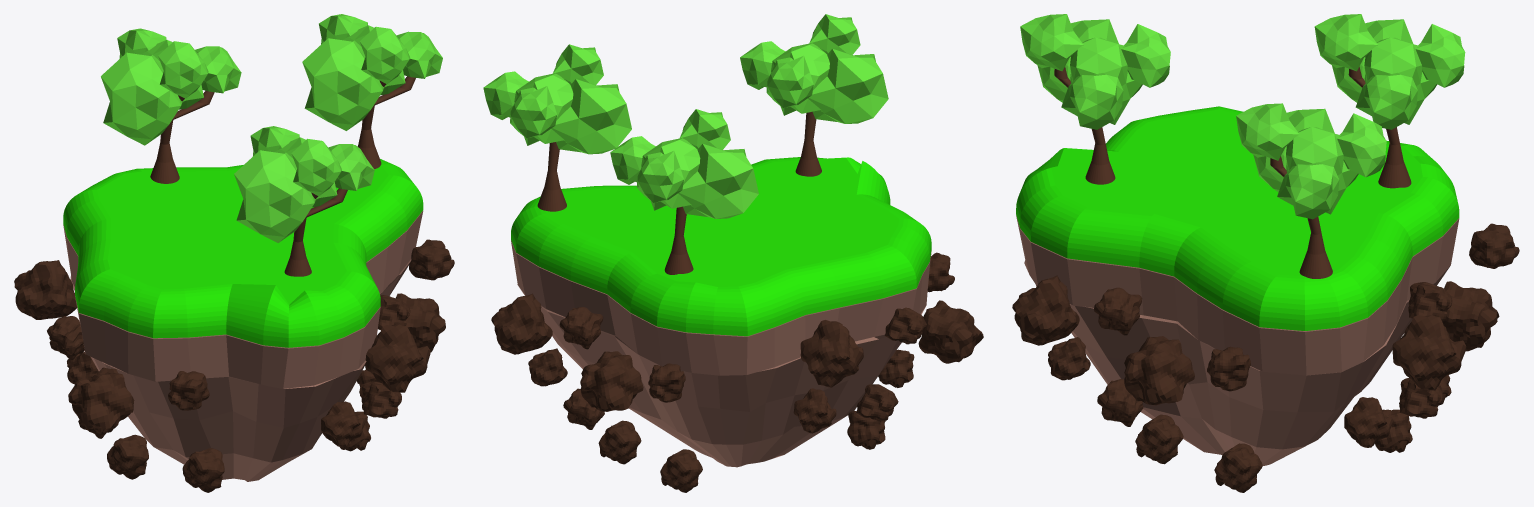
The model's file is island.glb.
3 renders of one model, left to right at view 1: azimuth 30°, elevation 25°; view 2: azimuth 150°, elevation 25°; view 3: azimuth 270°, elevation 25°, orthographic. The views are drawn at different scales.
Visible parts, largest first — view 1: Circle.002, Circle.001, Cylinder.001, Cylinder.003, Cylinder.002, RockA, Cube.004, Cube.020, Cube.023, Cube.002, Cube.018, Cube.016 (+2 smaller); view 2: Circle.002, Circle.001, Cylinder.002, Cylinder.001, Cylinder.003, RockA, Cube.020, Cube.009, Cube.012, Cube.014, Cube.008, Cube.021 (+5 smaller); view 3: Circle.002, Circle.001, Cylinder.002, Cylinder.001, Cylinder.003, RockA, Cube.012, Cube.004, Cube.009, Cube.011, Cube.006, Cube (+4 smaller).
Part boxes in pixels (x1,y1,x2,y2): Circle.002: (63, 159, 423, 347); Circle.001: (63, 211, 423, 481); Cylinder.001: (101, 28, 241, 183); Cylinder.003: (234, 126, 374, 276); Cylinder.002: (302, 14, 442, 169); RockA: (67, 293, 445, 492); Cube.004: (365, 324, 430, 392); Cube.020: (14, 260, 76, 319); Cube.023: (107, 434, 148, 479); Cube.002: (409, 239, 454, 280); Cube.018: (168, 371, 209, 410); Cube.016: (47, 316, 84, 359); Circle.002: (511, 157, 931, 336); Circle.001: (511, 240, 931, 467); Cylinder.002: (483, 44, 631, 211); Cylinder.001: (610, 109, 758, 274); Cylinder.003: (740, 14, 888, 176); RockA: (598, 300, 983, 464); Cube.020: (800, 320, 863, 387); Cube.009: (580, 351, 643, 411); Cube.012: (491, 293, 552, 354); Cube.014: (660, 449, 702, 492); Cube.008: (559, 307, 603, 349); Cube.021: (856, 384, 898, 421); Circle.002: (1016, 106, 1459, 330); Circle.001: (1016, 216, 1459, 465); Cylinder.002: (1236, 103, 1386, 278); Cylinder.001: (1314, 14, 1465, 188); Cylinder.003: (1020, 14, 1170, 184); RockA: (1048, 223, 1519, 464); Cube.012: (1392, 315, 1466, 390); Cube.004: (1012, 275, 1079, 345); Cube.009: (1442, 281, 1499, 351); Cube.011: (1344, 397, 1393, 447); Cube.006: (1214, 443, 1262, 492); Cube: (1094, 287, 1142, 335).
Size of the model in its own units: 6.25 by 5.34 by 5.76.
